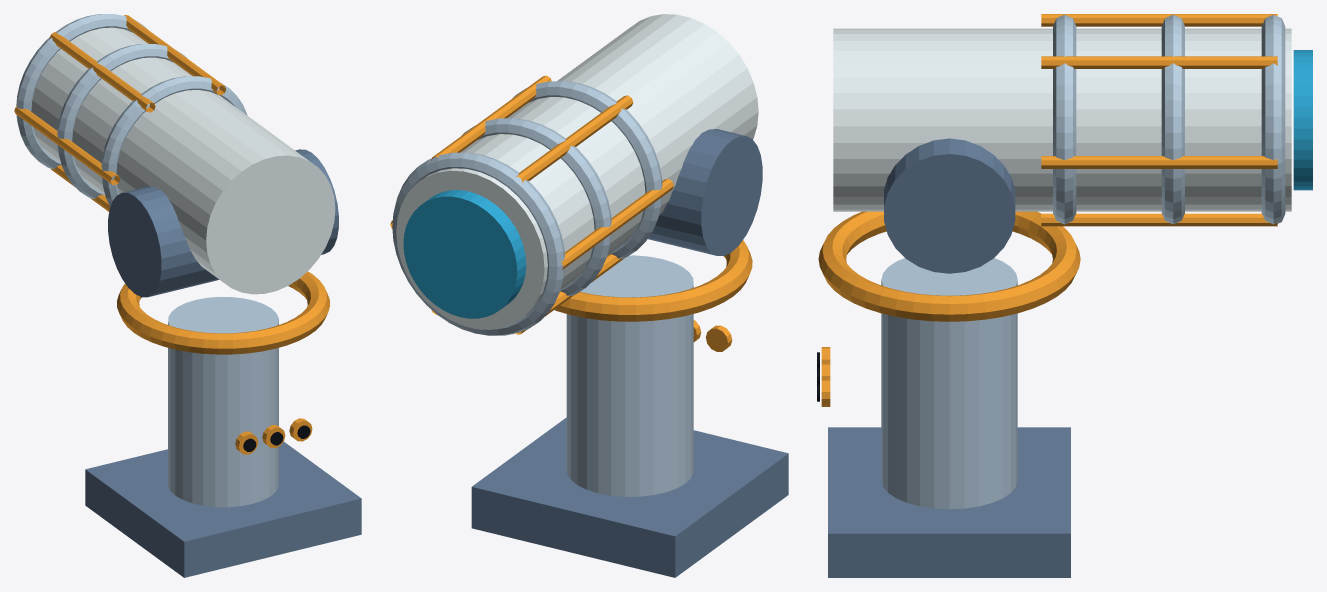
The model's file is 12_L89_SolarEnergeticParticleTelescopeA.fbx.
3 renders of one model, left to right at view 1: azimuth 30°, elevation 25°; view 2: azimuth 150°, elevation 25°; view 3: azimuth 270°, elevation 25°, orthographic. The views are drawn at different scales.
Parts seen in each view (by area): view 1: L87_SolarEnergeticParticleTelescopeA_Part_0004, L87_SolarEnergeticParticleTelescopeA_Part_0000, L87_SolarEnergeticParticleTelescopeA_Part_0001, L87_SolarEnergeticParticleTelescopeA_Part_0005, L87_SolarEnergeticParticleTelescopeA_Part_0003, L87_SolarEnergeticParticleTelescopeA_Part_0002, L87_SolarEnergeticParticleTelescopeA_Part_0007; view 2: L87_SolarEnergeticParticleTelescopeA_Part_0004, L87_SolarEnergeticParticleTelescopeA_Part_0000, L87_SolarEnergeticParticleTelescopeA_Part_0001, L87_SolarEnergeticParticleTelescopeA_Part_0005, L87_SolarEnergeticParticleTelescopeA_Part_0006, L87_SolarEnergeticParticleTelescopeA_Part_0003, L87_SolarEnergeticParticleTelescopeA_Part_0007, L87_SolarEnergeticParticleTelescopeA_Part_0002, L87_SolarEnergeticParticleTelescopeA_Part_0008; view 3: L87_SolarEnergeticParticleTelescopeA_Part_0004, L87_SolarEnergeticParticleTelescopeA_Part_0001, L87_SolarEnergeticParticleTelescopeA_Part_0000, L87_SolarEnergeticParticleTelescopeA_Part_0003, L87_SolarEnergeticParticleTelescopeA_Part_0005, L87_SolarEnergeticParticleTelescopeA_Part_0007, L87_SolarEnergeticParticleTelescopeA_Part_0002, L87_SolarEnergeticParticleTelescopeA_Part_0006.
Part boxes in pixels (x1,y1,x2,y2): L87_SolarEnergeticParticleTelescopeA_Part_0004: (31,27,335,294); L87_SolarEnergeticParticleTelescopeA_Part_0000: (85,441,361,577); L87_SolarEnergeticParticleTelescopeA_Part_0001: (168,296,278,507); L87_SolarEnergeticParticleTelescopeA_Part_0005: (16,14,247,206); L87_SolarEnergeticParticleTelescopeA_Part_0003: (108,149,338,297); L87_SolarEnergeticParticleTelescopeA_Part_0002: (117,271,329,354); L87_SolarEnergeticParticleTelescopeA_Part_0007: (14,15,226,211); L87_SolarEnergeticParticleTelescopeA_Part_0004: (396,14,758,329); L87_SolarEnergeticParticleTelescopeA_Part_0000: (471,417,788,577); L87_SolarEnergeticParticleTelescopeA_Part_0001: (566,255,693,496); L87_SolarEnergeticParticleTelescopeA_Part_0005: (392,81,662,335); L87_SolarEnergeticParticleTelescopeA_Part_0006: (403,190,526,318); L87_SolarEnergeticParticleTelescopeA_Part_0003: (648,129,762,255); L87_SolarEnergeticParticleTelescopeA_Part_0007: (390,75,673,334); L87_SolarEnergeticParticleTelescopeA_Part_0002: (554,240,752,321); L87_SolarEnergeticParticleTelescopeA_Part_0008: (705,325,732,351); L87_SolarEnergeticParticleTelescopeA_Part_0004: (833,28,1291,211); L87_SolarEnergeticParticleTelescopeA_Part_0001: (881,258,1017,509); L87_SolarEnergeticParticleTelescopeA_Part_0000: (828,427,1070,577); L87_SolarEnergeticParticleTelescopeA_Part_0003: (884,138,1015,273); L87_SolarEnergeticParticleTelescopeA_Part_0005: (1053,15,1285,224); L87_SolarEnergeticParticleTelescopeA_Part_0007: (1041,14,1277,226); L87_SolarEnergeticParticleTelescopeA_Part_0002: (818,211,1080,321); L87_SolarEnergeticParticleTelescopeA_Part_0006: (1293,50,1312,190).
Size of the model in its own units: 123 by 259 by 233.
